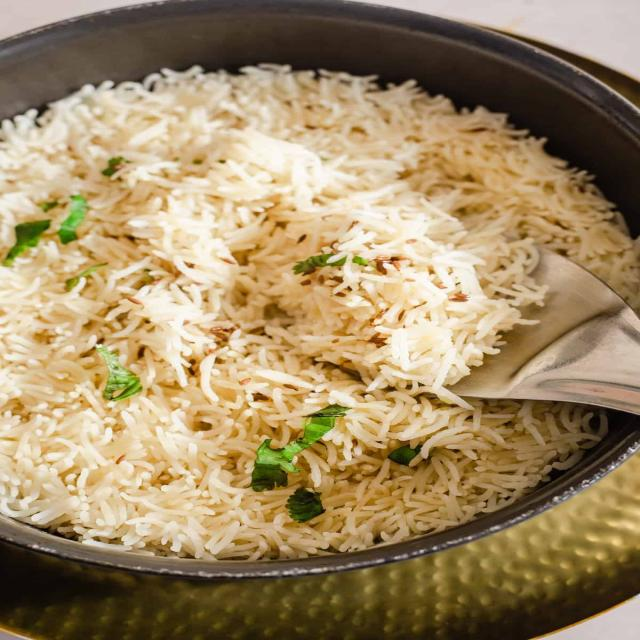nei satham: (13, 49, 544, 537)
